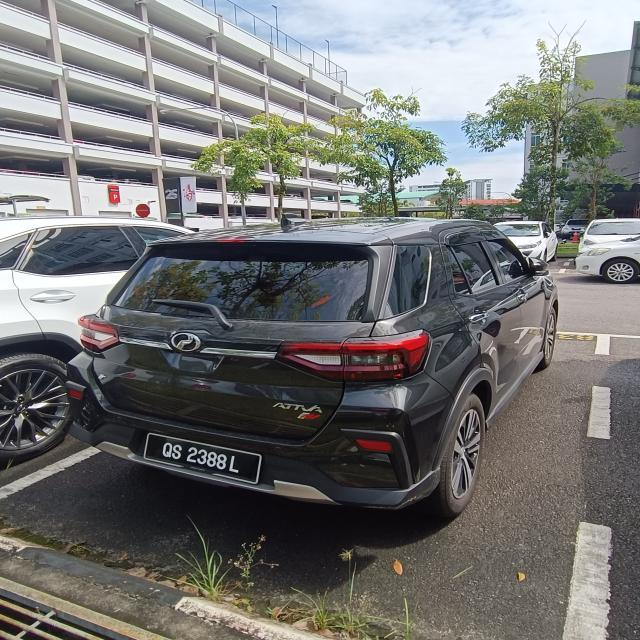PeroduaAtiva: (62, 212, 560, 518)
